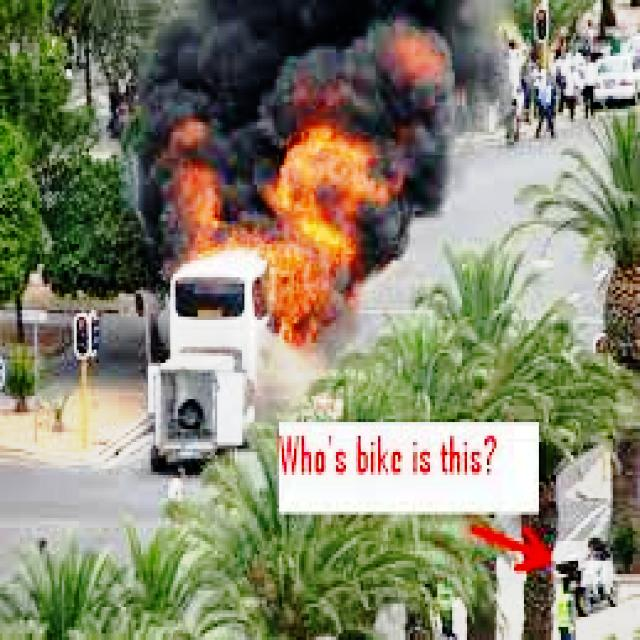api: (157, 107, 384, 357)
